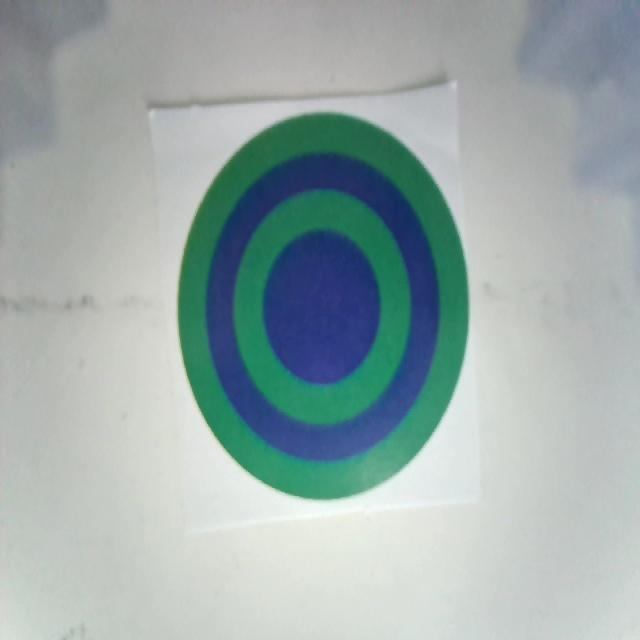cogn: (175, 110, 470, 502)
